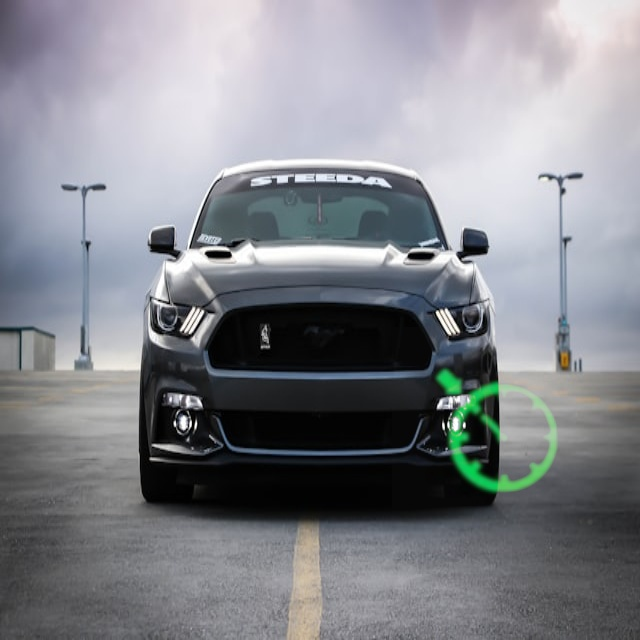symbol: (392, 327, 603, 538)
